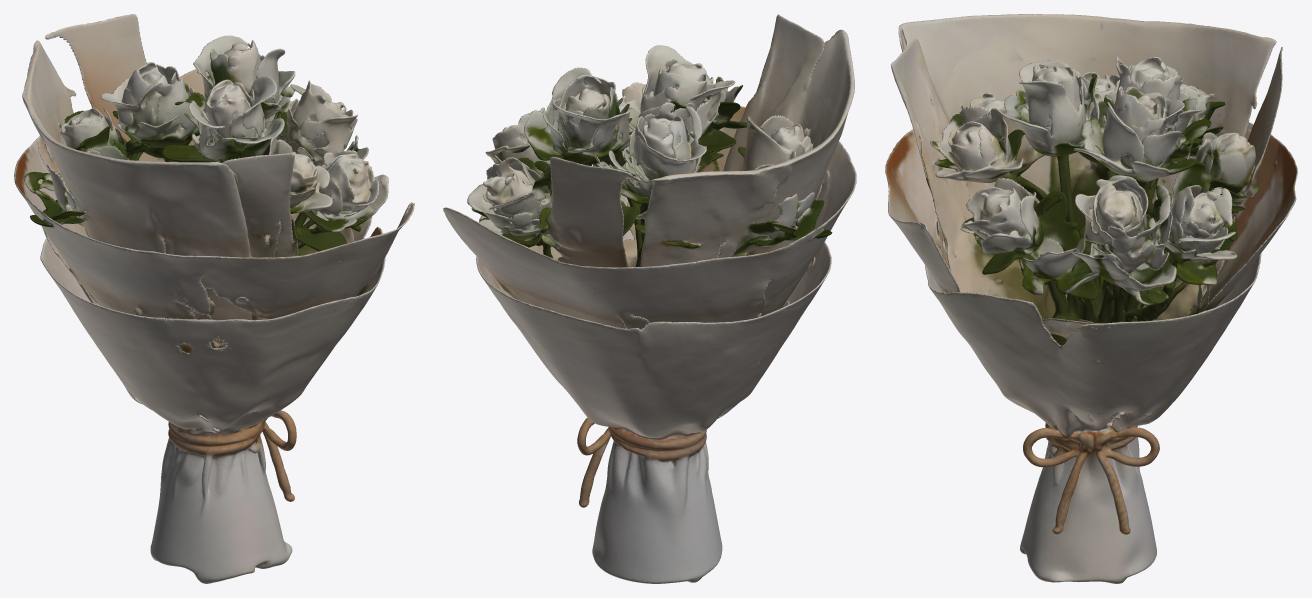
File: rose-bouquet.glb
The picture shows the model from 3 angles, left to right: view 1: azimuth 30°, elevation 25°; view 2: azimuth 150°, elevation 25°; view 3: azimuth 270°, elevation 25°; orthographic projection.
Parts seen in each view (by area): view 1: tripo_node_34a02ad1-caf0-4f88-9b92-4da0be1086bc; view 2: tripo_node_34a02ad1-caf0-4f88-9b92-4da0be1086bc; view 3: tripo_node_34a02ad1-caf0-4f88-9b92-4da0be1086bc.
Boxes of the visible parts, x1,y1,x2,y2 form: tripo_node_34a02ad1-caf0-4f88-9b92-4da0be1086bc: (14,14,414,583); tripo_node_34a02ad1-caf0-4f88-9b92-4da0be1086bc: (443,14,856,583); tripo_node_34a02ad1-caf0-4f88-9b92-4da0be1086bc: (885,14,1297,583).
Size of the model in its own units: 0.7066 by 1 by 0.7541.
1 material, 1 textured.
